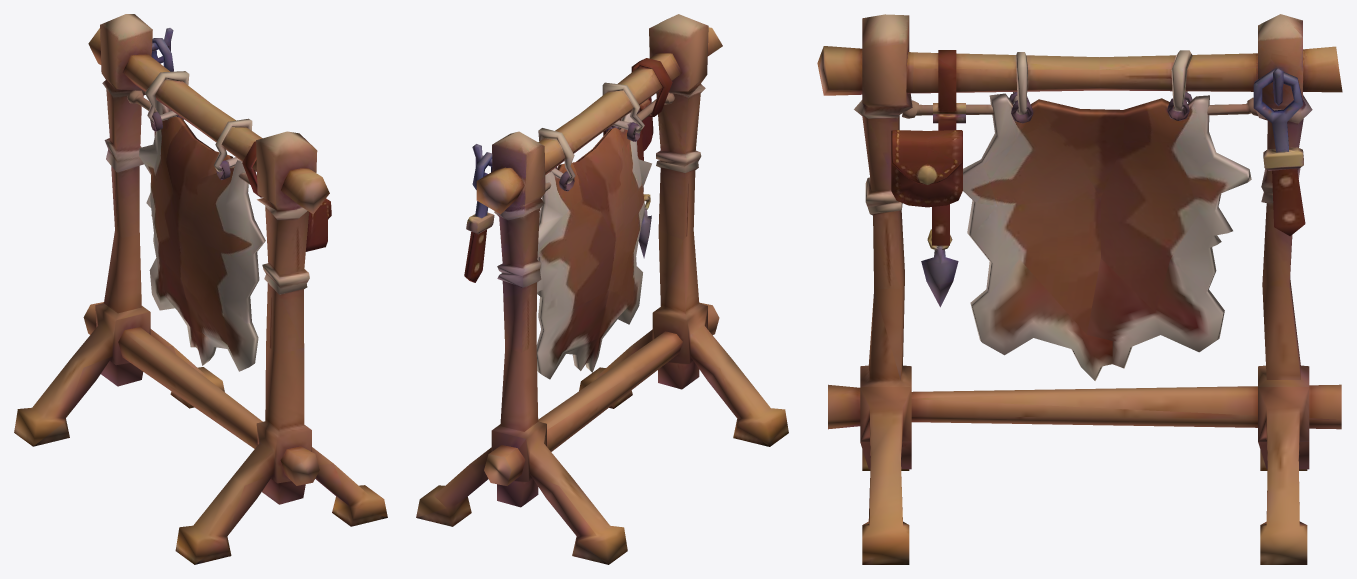
Rendered from leatherworking_rack.glb.
3 renders of one model, left to right at view 1: azimuth 30°, elevation 25°; view 2: azimuth 150°, elevation 25°; view 3: azimuth 270°, elevation 25°, orthographic. The views are drawn at different scales.
Visible parts, largest first — view 1: tripo_node_655af333-d642-42d9-bd27-98239e6802a1; view 2: tripo_node_655af333-d642-42d9-bd27-98239e6802a1; view 3: tripo_node_655af333-d642-42d9-bd27-98239e6802a1.
Part boxes in pixels (<box>): tripo_node_655af333-d642-42d9-bd27-98239e6802a1: <box>14,14,387,564</box>; tripo_node_655af333-d642-42d9-bd27-98239e6802a1: <box>416,14,788,564</box>; tripo_node_655af333-d642-42d9-bd27-98239e6802a1: <box>817,14,1342,564</box>.
Size of the model in its own units: 0.7544 by 1.5 by 1.44.
1 material, 1 textured.
